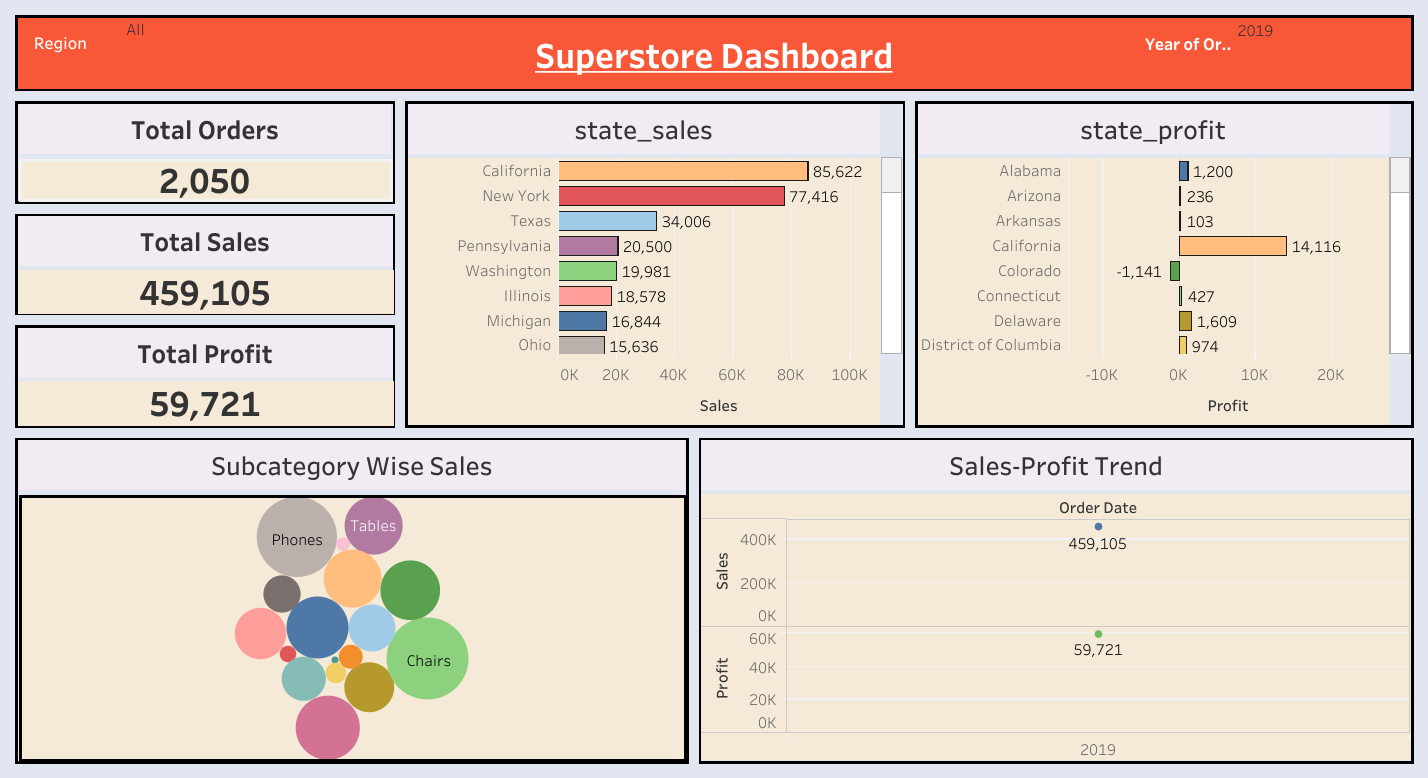

This screenshot's page, from the dashboard's own definition file:
{"tool":"tableau","page":{"name":"Dashboard 1","canvas":[1000,1000],"units":"permille","ordinal":0},"visuals":[{"type":"title","box":[7.9,10.1,984.3,87.2]},{"type":"filter","title":"Total sales","param":"[federated.0urdn5w1f9ntji1h8d9g21osxjp7].[none:Region:nk]","box":[23.6,22.8,172.1,62]},{"type":"filter","title":"Total sales","param":"[federated.0urdn5w1f9ntji1h8d9g21osxjp7].[yr:Order Date:ok]","box":[801.4,24,175,60.7]},{"type":"worksheet","title":"Orders count","mark":"Automatic","box":[7.9,97.3,272.6,148.7]},{"type":"worksheet","title":"state_sales","mark":"Automatic","rows":["State"],"cols":["Sales"],"box":[280.5,97.3,355.8,446.2]},{"type":"worksheet","title":"state_profit","mark":"Automatic","rows":["State"],"cols":["Profit"],"box":[636.3,97.3,355.8,446.2]},{"type":"worksheet","title":"Total sales","mark":"Automatic","box":[7.9,246,272.6,148.8]},{"type":"worksheet","title":"Total Profit","mark":"Automatic","box":[7.9,394.8,272.6,148.8]},{"type":"worksheet","title":"subcate_sales","mark":"Circle","box":[7.9,543.5,477.8,446.3]},{"type":"worksheet","title":"Trend","mark":"Automatic","rows":["Sales","Profit"],"cols":["Order Date"],"box":[485.6,543.5,506.5,446.3]}]}

Visuals, with their boxes on the dashboard's canvas, which has no fixed pixel size, in thousandths of its width and height (x1, y1, x2, y2). These are canvas units, not pixel positions in the 1428x778 screenshot, which may show the page scaled, cropped or inside an application window:
title: bbox=[8, 10, 992, 97]
"Total sales" filter: bbox=[24, 23, 196, 85]
"Total sales" filter: bbox=[801, 24, 976, 85]
"Orders count" worksheet: bbox=[8, 97, 280, 246]
"state_sales" worksheet: bbox=[280, 97, 636, 544]
"state_profit" worksheet: bbox=[636, 97, 992, 544]
"Total sales" worksheet: bbox=[8, 246, 280, 395]
"Total Profit" worksheet: bbox=[8, 395, 280, 544]
"subcate_sales" worksheet (Circle marks): bbox=[8, 544, 486, 990]
"Trend" worksheet: bbox=[486, 544, 992, 990]
